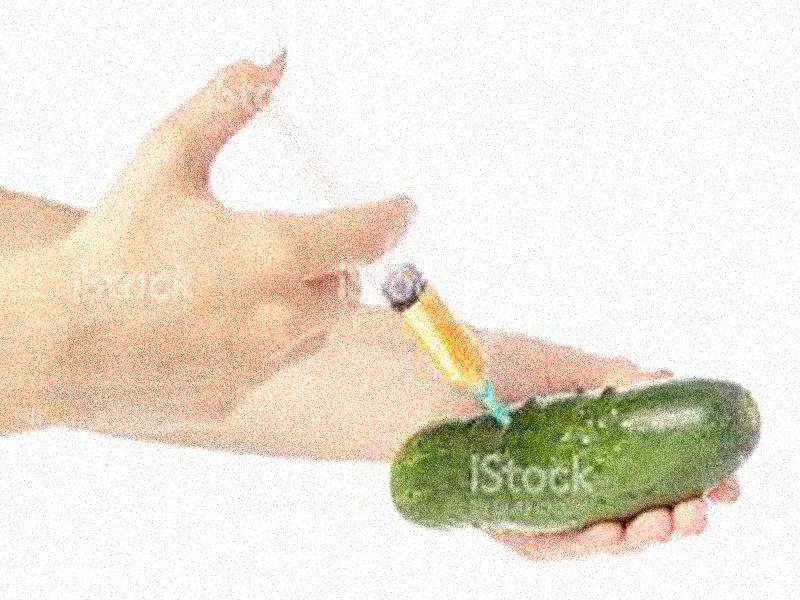Cucumber: (390, 380, 764, 522)
